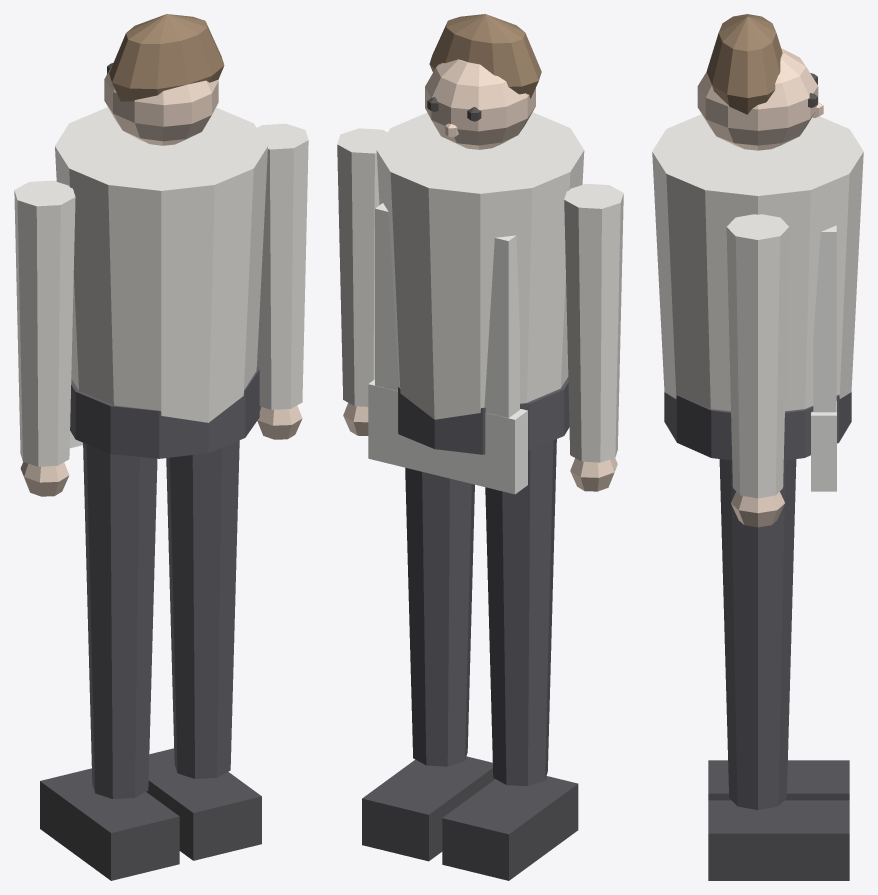
Rendered from npc_marie.glb.
3 renders of one model, left to right at view 1: azimuth 30°, elevation 25°; view 2: azimuth 150°, elevation 25°; view 3: azimuth 270°, elevation 25°, orthographic. The views are drawn at different scales.
Parts seen in each view (by area): view 1: Torso, LegL, LegR, ArmL, ArmR, Head; view 2: Torso, LegL, LegR, ArmL, Head, ArmR; view 3: Torso, LegR, ArmR, Head, LegL.
Boxes of the visible parts, box(x1,y1,x2,y2) form: Torso: box(55, 107, 267, 458); LegL: box(40, 442, 179, 880); LegR: box(146, 440, 261, 860); ArmL: box(14, 180, 75, 496); ArmR: box(257, 123, 308, 439); Head: box(104, 14, 224, 145); Torso: box(368, 112, 584, 494); LegL: box(442, 439, 578, 880); LegR: box(362, 467, 494, 861); ArmL: box(564, 183, 623, 491); Head: box(425, 14, 541, 149); ArmR: box(337, 128, 387, 435); Torso: box(652, 114, 863, 491); LegR: box(708, 459, 849, 880); ArmR: box(726, 214, 789, 527); Head: box(697, 14, 823, 150); LegL: box(708, 760, 849, 800).
Bounding box in the file's own units: 0.63 × 1.74 × 0.404.
